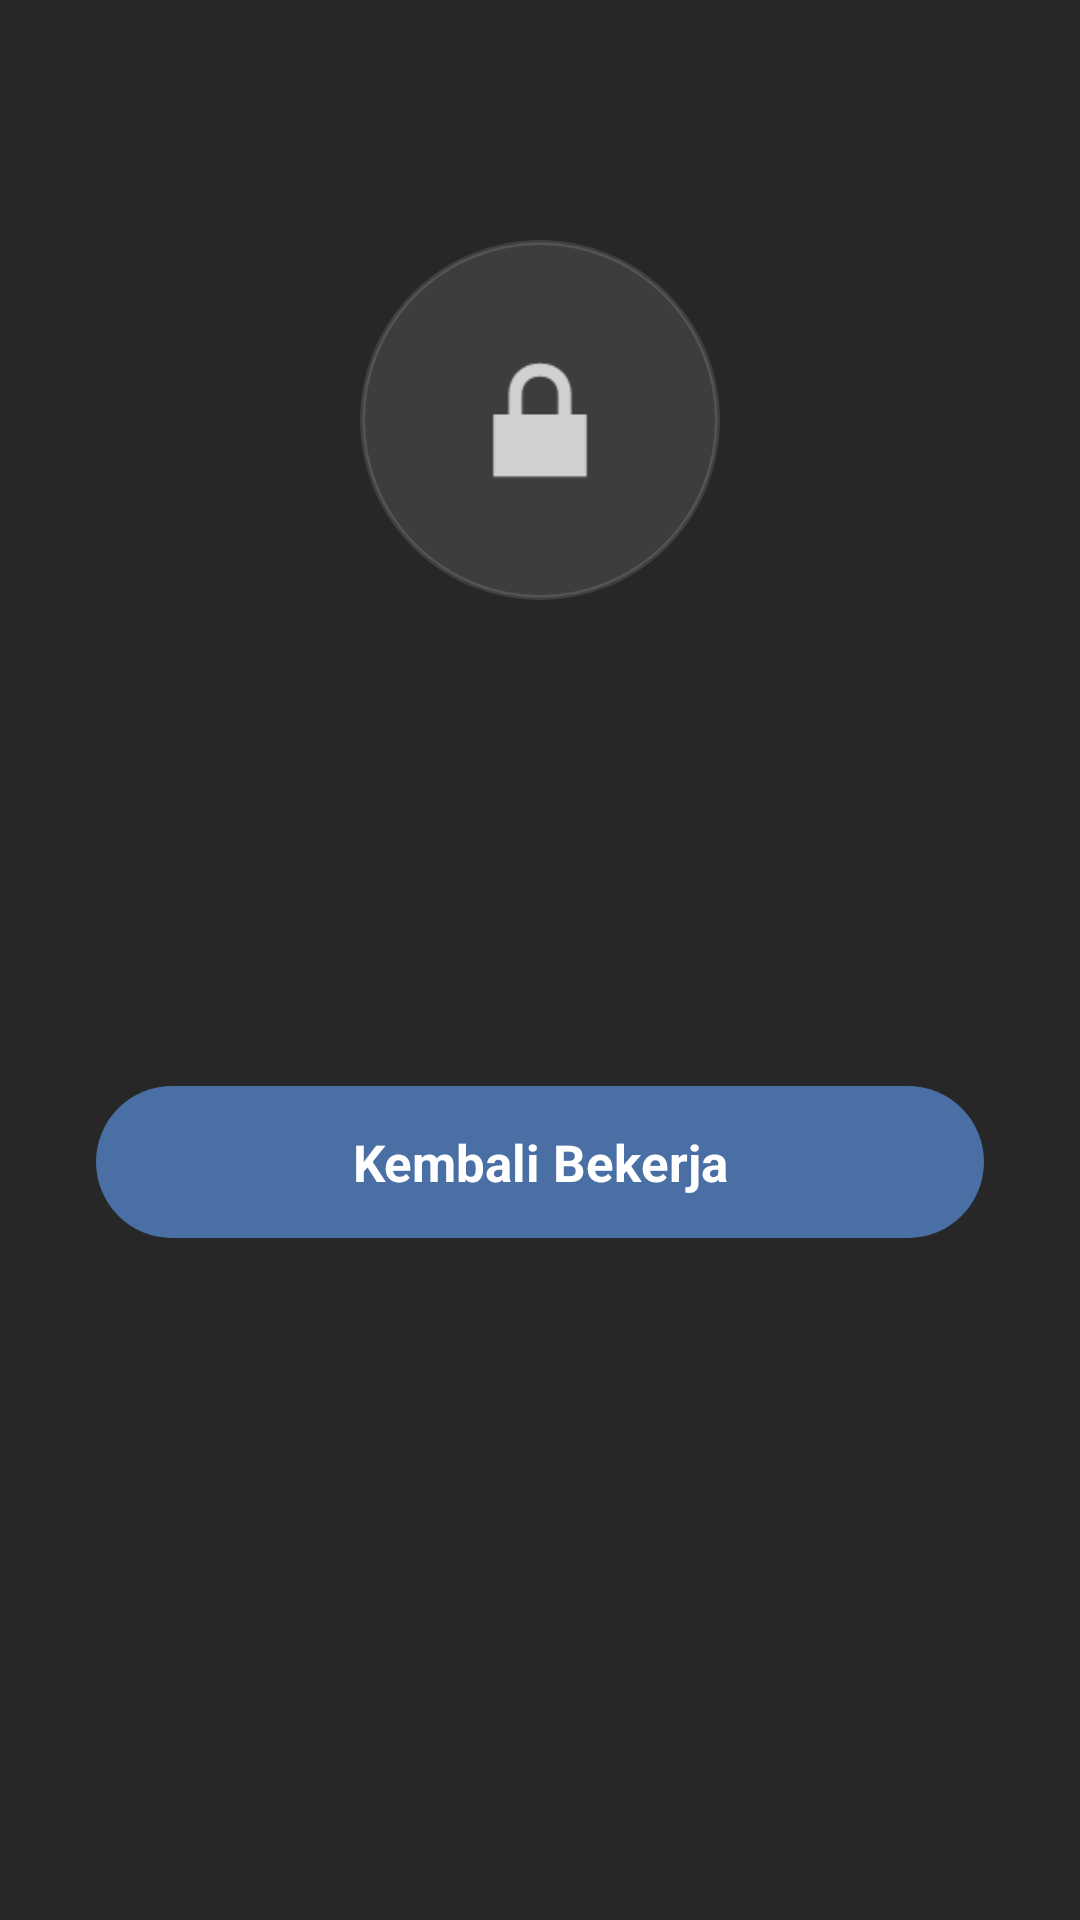

Named icons in this screenshot (1080*1920) and their bounding boxes, Rect(x1, y1, x2, y2):
lock: Rect(493, 362, 587, 478)
